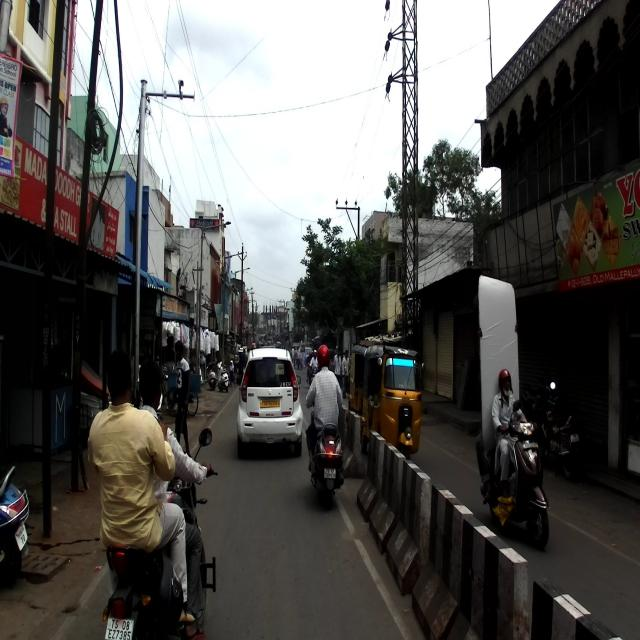autorickshaw: (359, 343, 425, 467)
car: (236, 347, 303, 457)
motorcycle: (93, 420, 220, 636), (532, 385, 579, 480)
scooter: (480, 399, 549, 552), (305, 391, 345, 506), (0, 458, 34, 582)
